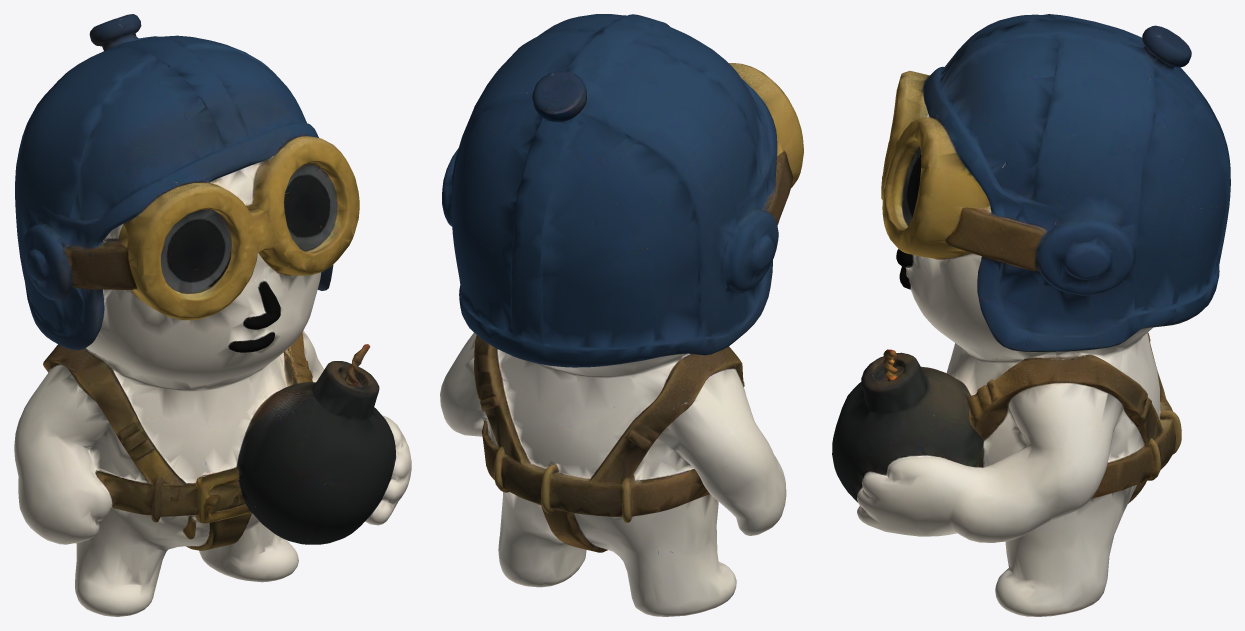
The model's file is Bombardero.glb.
3 renders of one model, left to right at view 1: azimuth 30°, elevation 25°; view 2: azimuth 150°, elevation 25°; view 3: azimuth 270°, elevation 25°, orthographic. The views are drawn at different scales.
Size of the model in its own units: 1.2 by 1.9 by 1.27.
Materials: 1 (1 with a texture image).
